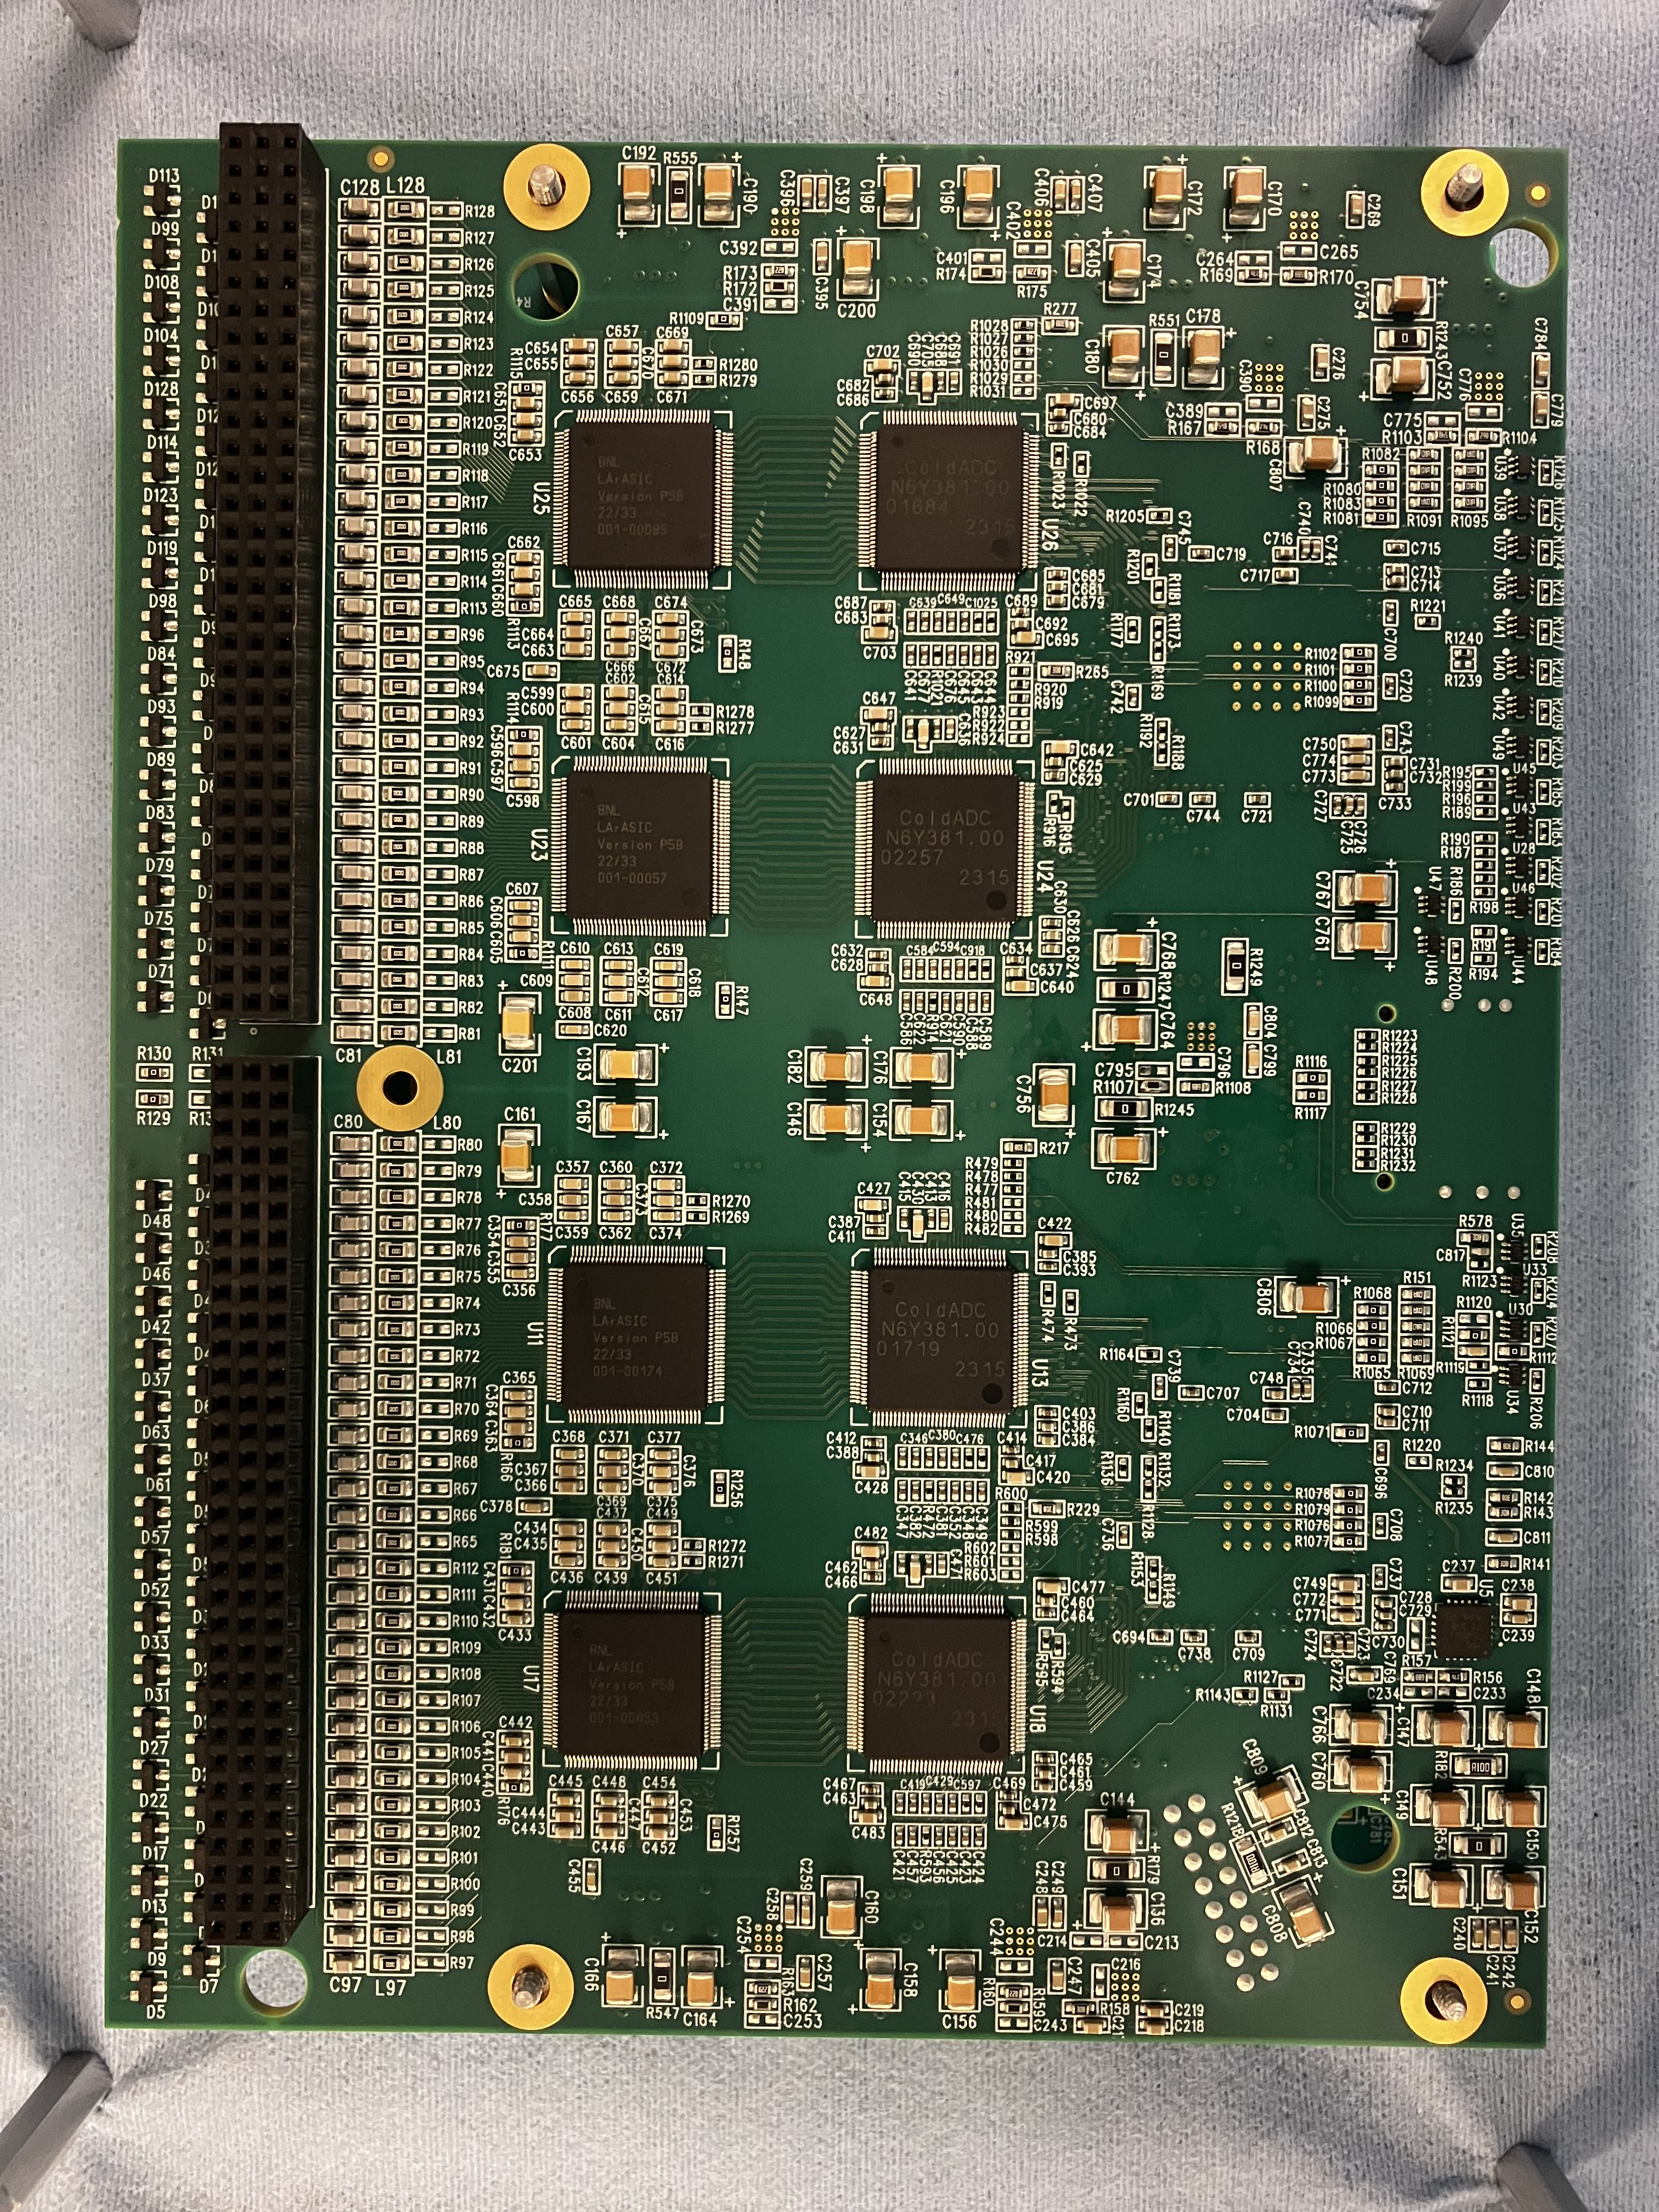chip: (871, 770, 1019, 923), (559, 1261, 708, 1414), (864, 1606, 1012, 1759), (868, 1259, 1016, 1411), (559, 1606, 706, 1759), (570, 423, 714, 573), (878, 421, 1023, 571), (568, 770, 711, 920)
